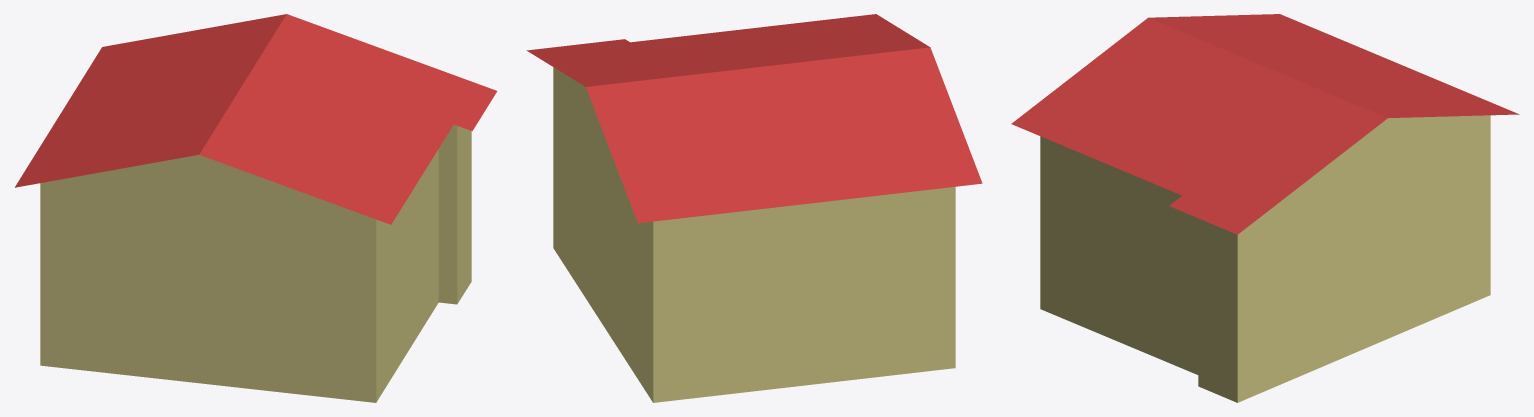
3 renders of one model, left to right at view 1: azimuth 30°, elevation 25°; view 2: azimuth 150°, elevation 25°; view 3: azimuth 270°, elevation 25°, orthographic. The views are drawn at different scales.
Bounding box in the file's own units: 18.95 × 18.46 × 9.33.
